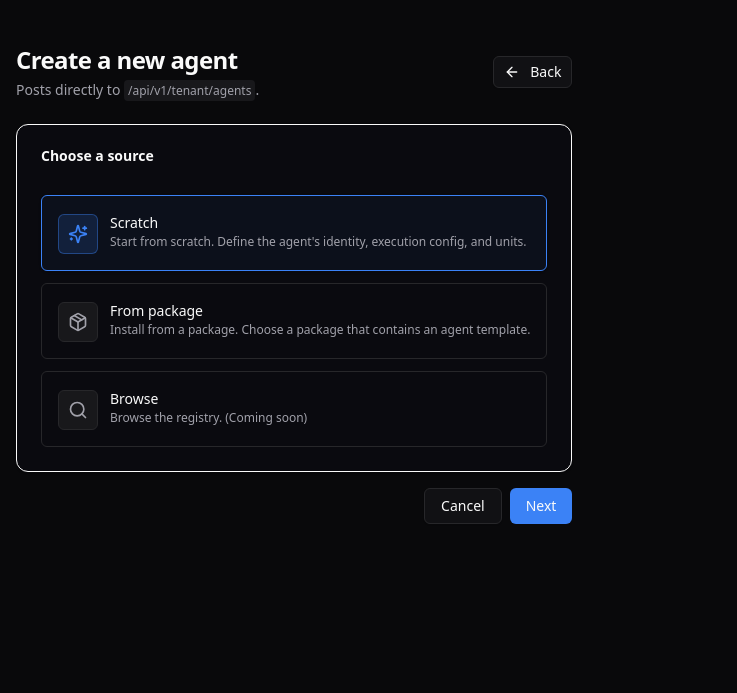
Test: CreateAgentPage › renders the form with displayName, role, execution and unit picker
Click the button "Next".
click(541, 506)  # box [510,488,572,524]
(page scrolled)
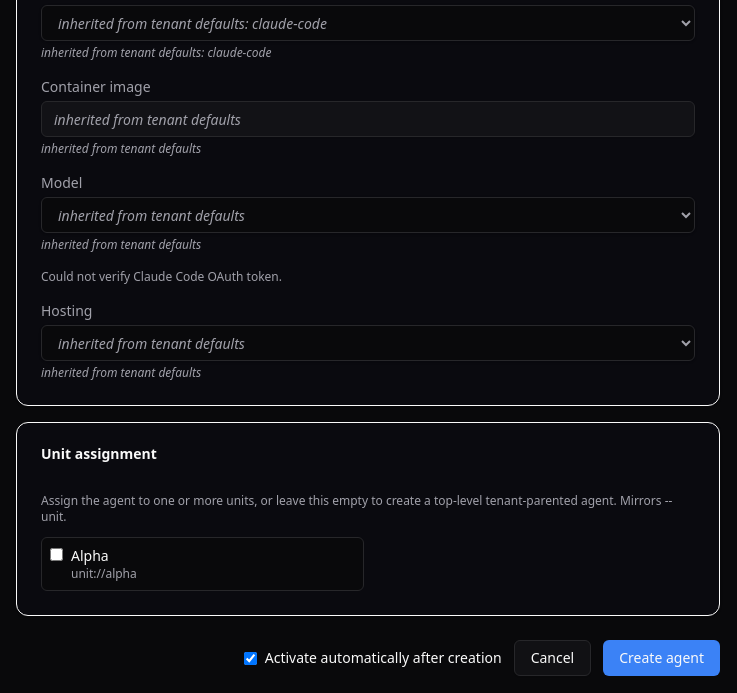
Check: the dropdown named "agent runtime" is shown, box [41,5,695,41]
Check: the field named "container image" is shown, box [41,101,695,137]
Check: the dropdown named "model" is shown, box [41,197,695,233]
